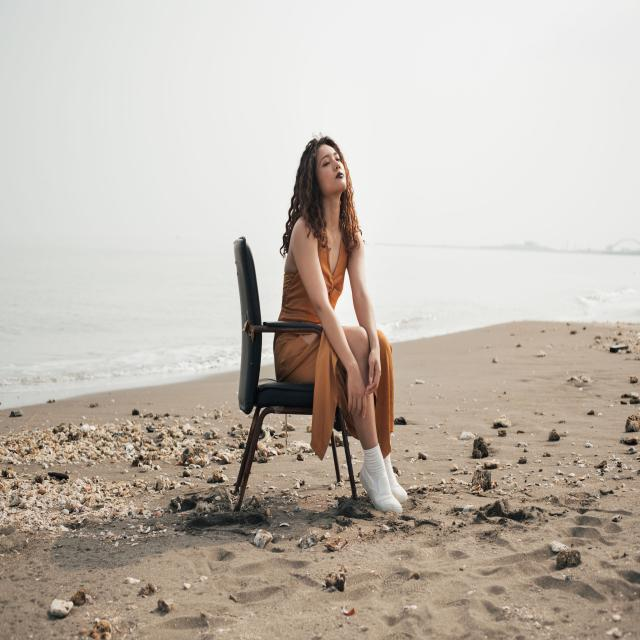nonfall: (276, 97, 414, 533)
